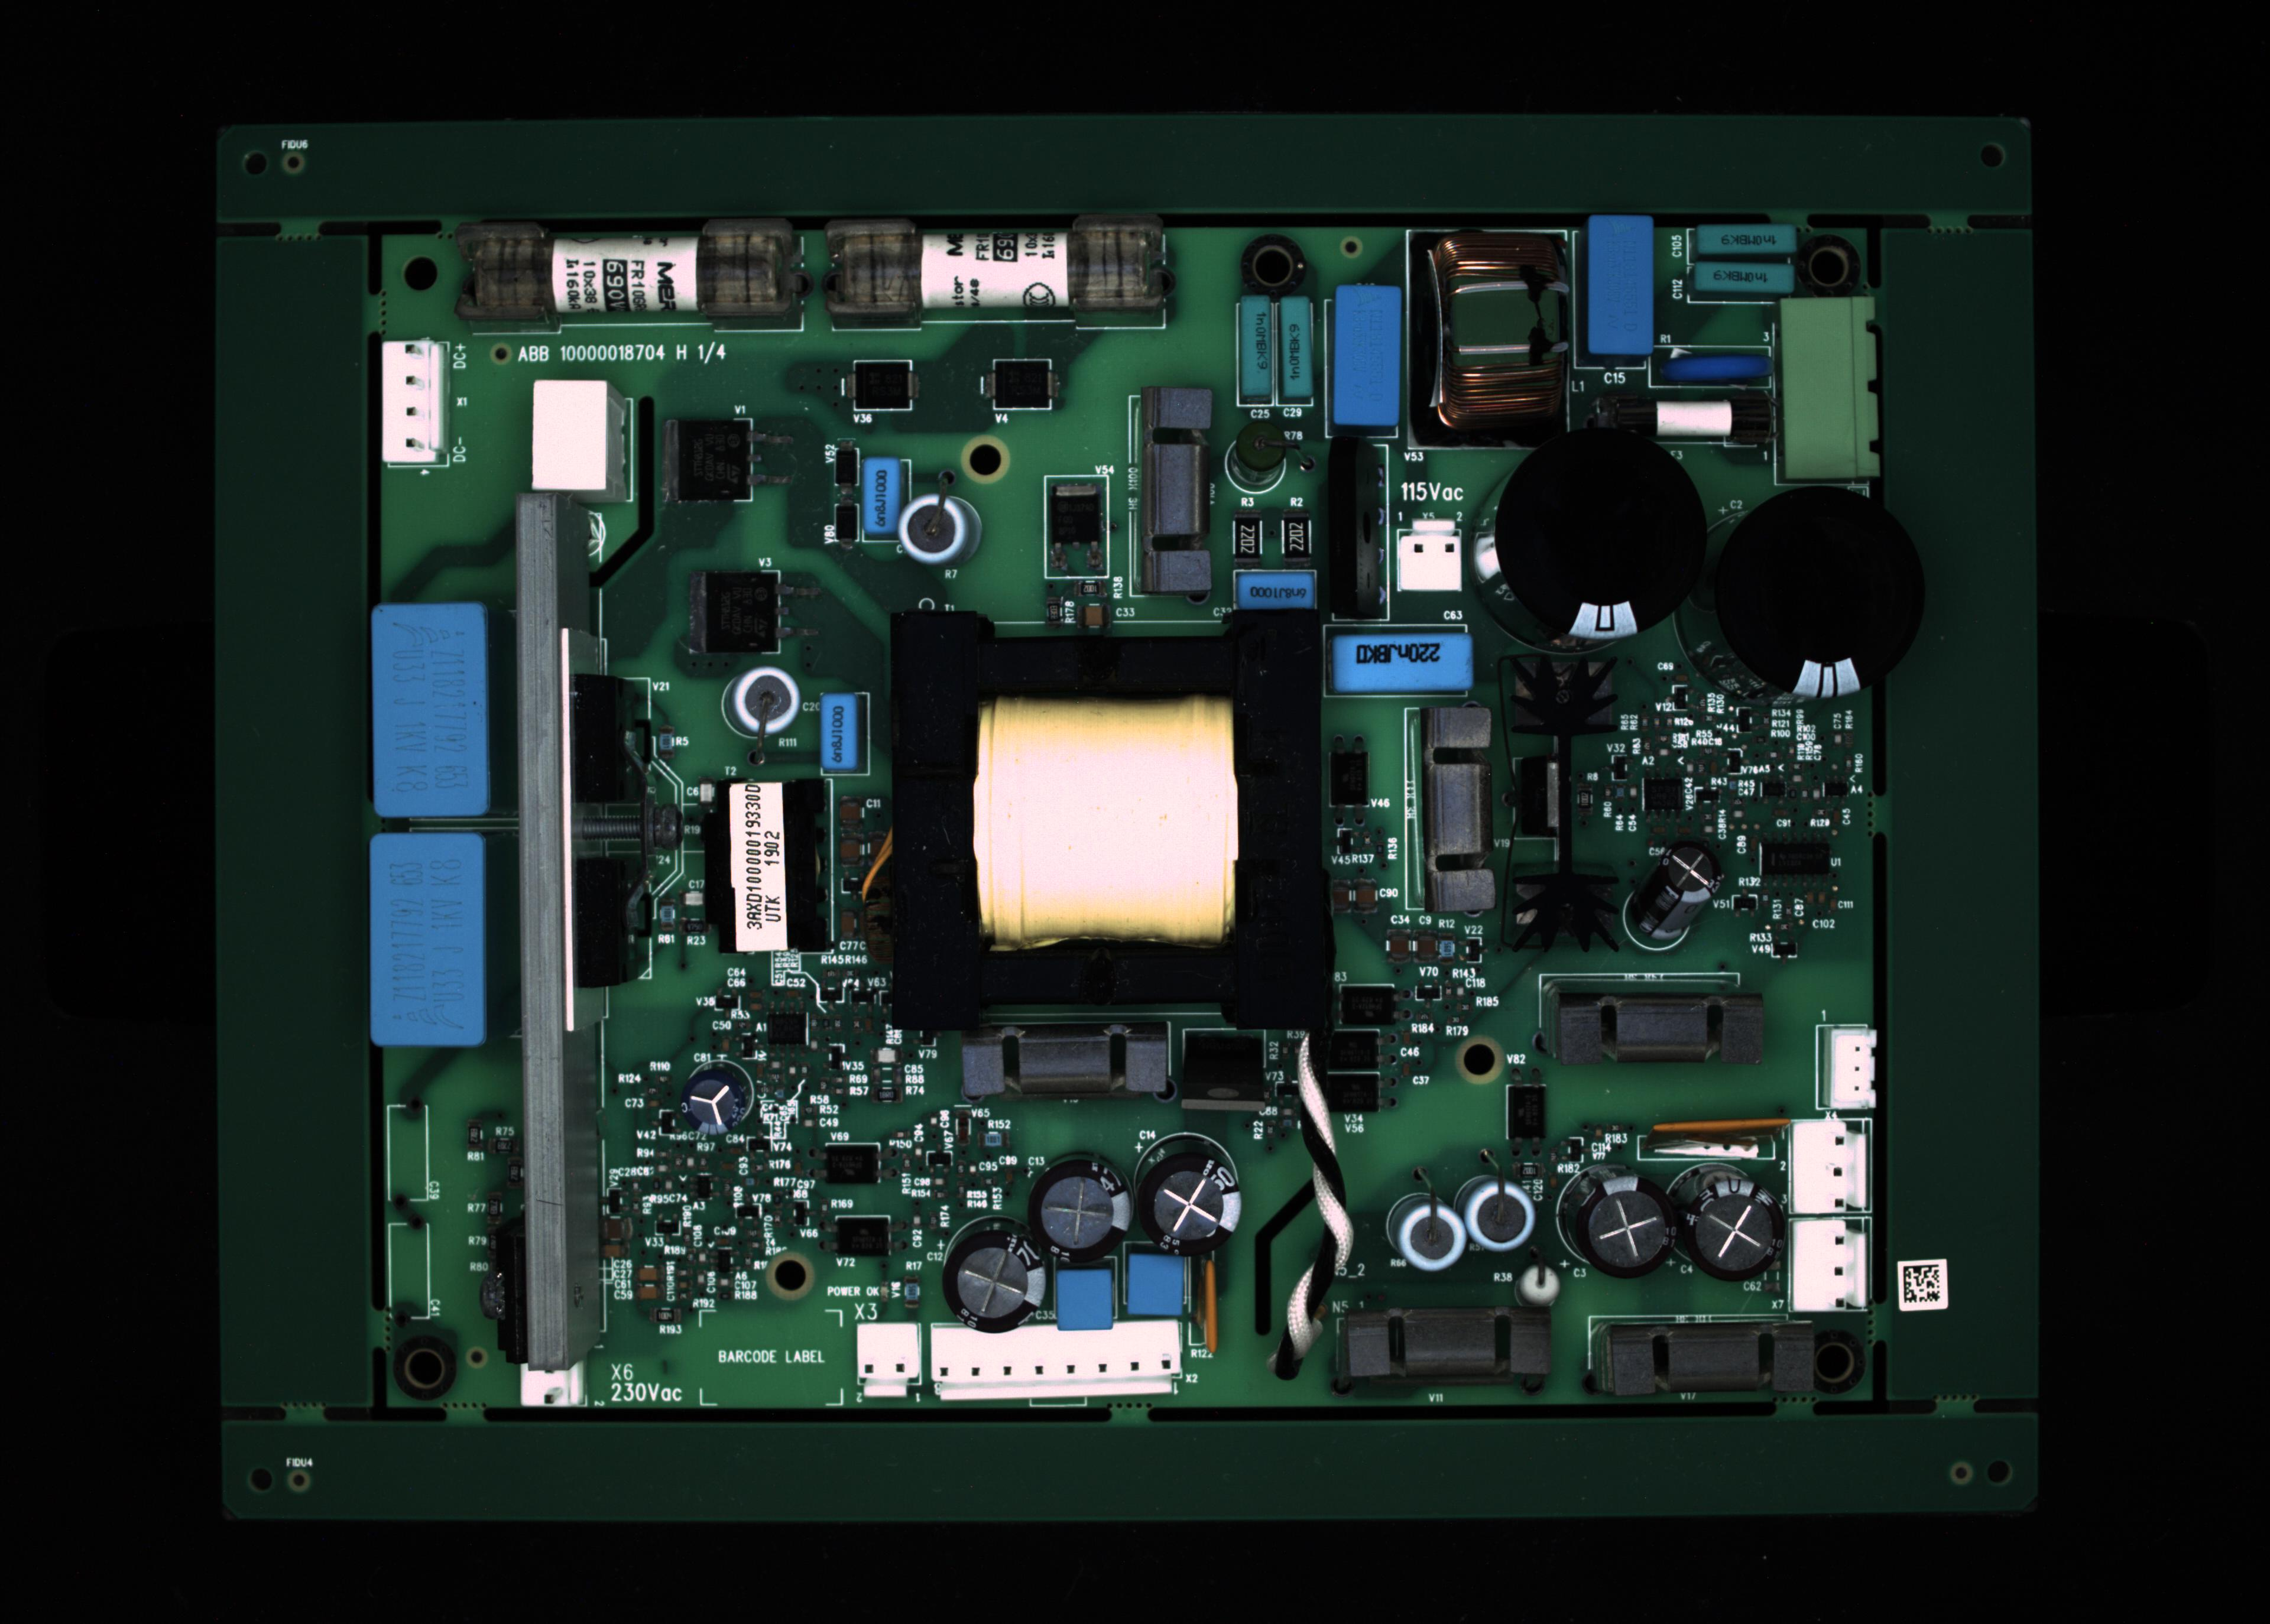10_p: (1648, 346, 1772, 394)
11_q: (1779, 297, 1880, 489)
12_r: (1591, 387, 1776, 455)
13_s: (382, 337, 443, 466)
14_t: (531, 380, 607, 492)
15_e: (860, 457, 899, 533)
16_k: (891, 494, 983, 569)
17_u: (1141, 385, 1211, 591)
18_v: (1234, 569, 1315, 612)
19_w: (1329, 631, 1475, 696)
1_a: (457, 216, 802, 322)
20_f: (1393, 517, 1465, 592)
21_g: (1495, 429, 1709, 634)
22_g: (1713, 482, 1927, 700)
23_h: (373, 603, 487, 817)
24_h: (369, 833, 485, 1044)
25_f: (520, 1360, 584, 1408)
26_f: (855, 1323, 927, 1401)
27_x: (925, 1323, 1182, 1410)
28_i: (1136, 1151, 1241, 1255)
29_i: (1027, 1153, 1134, 1274)
2_a: (819, 216, 1171, 322)
30_i: (941, 1230, 1048, 1336)
31_j: (1055, 1267, 1113, 1332)
32_j: (1125, 1251, 1192, 1315)
33_e: (819, 692, 860, 770)
34_k: (1389, 1197, 1465, 1274)
35_k: (1456, 1178, 1539, 1248)
36_i: (1574, 1174, 1672, 1276)
37_i: (1679, 1178, 1785, 1283)
38_l: (1343, 1304, 1553, 1380)
39_l: (1581, 1316, 1816, 1396)
3_b: (1240, 295, 1273, 402)
40_l: (1539, 997, 1764, 1069)
41_y: (1407, 678, 1505, 919)
42_z: (1829, 1028, 1874, 1109)
43_m: (1792, 1120, 1871, 1216)
44_m: (1788, 1218, 1871, 1311)
45_i: (679, 1069, 751, 1135)
46_n: (1338, 982, 1412, 1028)
47_n: (811, 1142, 899, 1192)
48_n: (818, 1214, 911, 1265)
49_aa: (763, 1011, 807, 1044)
4_b: (1280, 294, 1312, 410)
50_n: (1321, 1030, 1391, 1070)
51_n: (1308, 1070, 1394, 1111)
52_ab: (1329, 740, 1377, 831)
53_ac: (1656, 1130, 1790, 1165)
54_ad: (1194, 1253, 1222, 1364)
55_l: (962, 1021, 1175, 1100)
56_ae: (1176, 1028, 1266, 1111)
57_af: (1509, 647, 1635, 951)
58_i: (1655, 842, 1725, 912)
59_o: (981, 359, 1057, 408)
5_c: (1333, 286, 1400, 427)
60_o: (842, 357, 914, 410)
6_ag: (1405, 232, 1572, 452)
7_c: (1590, 214, 1655, 353)
8_d: (1699, 223, 1795, 257)
9_d: (1695, 262, 1793, 292)
